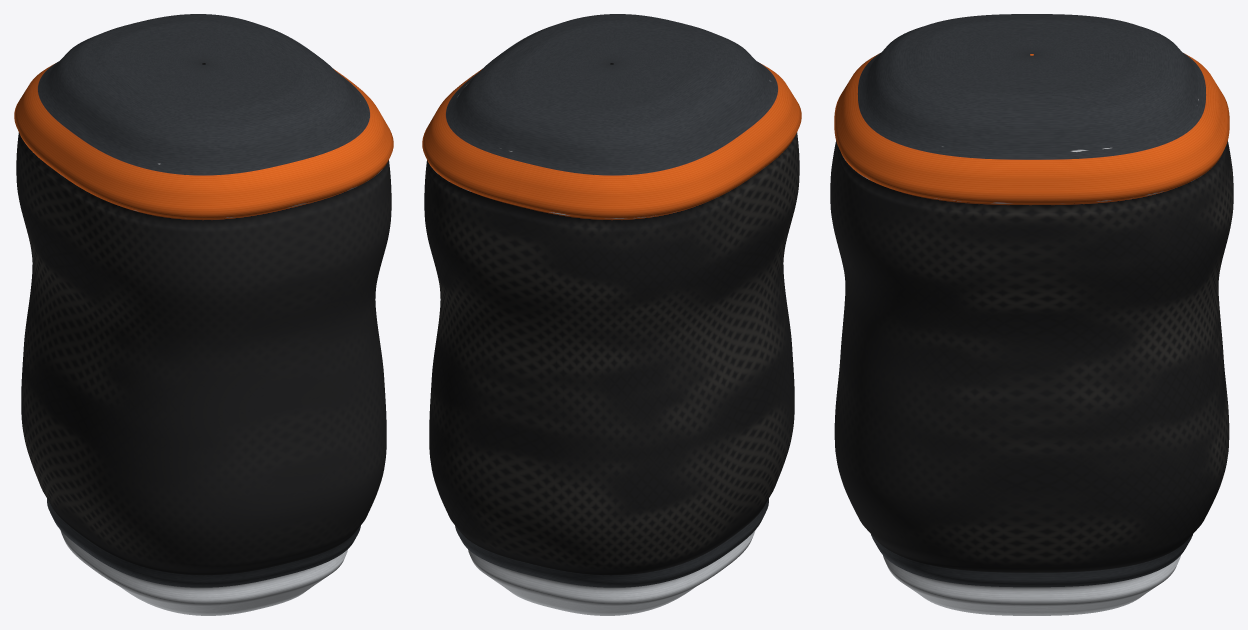
File: grip_hd.glb
The picture shows the model from 3 angles, left to right: view 1: azimuth 30°, elevation 25°; view 2: azimuth 150°, elevation 25°; view 3: azimuth 270°, elevation 25°; orthographic projection. The views are drawn at different scales.
Visible parts, largest first — view 1: Grip; view 2: Grip; view 3: Grip.
Boxes of the visible parts, box(x1,y1,x2,y2) form: Grip: box(14, 14, 393, 615); Grip: box(422, 14, 801, 615); Grip: box(830, 14, 1233, 615).
Size of the model in its own units: 0.0724 by 0.1163 by 0.0821.
Materials: 1 (1 with a texture image).
